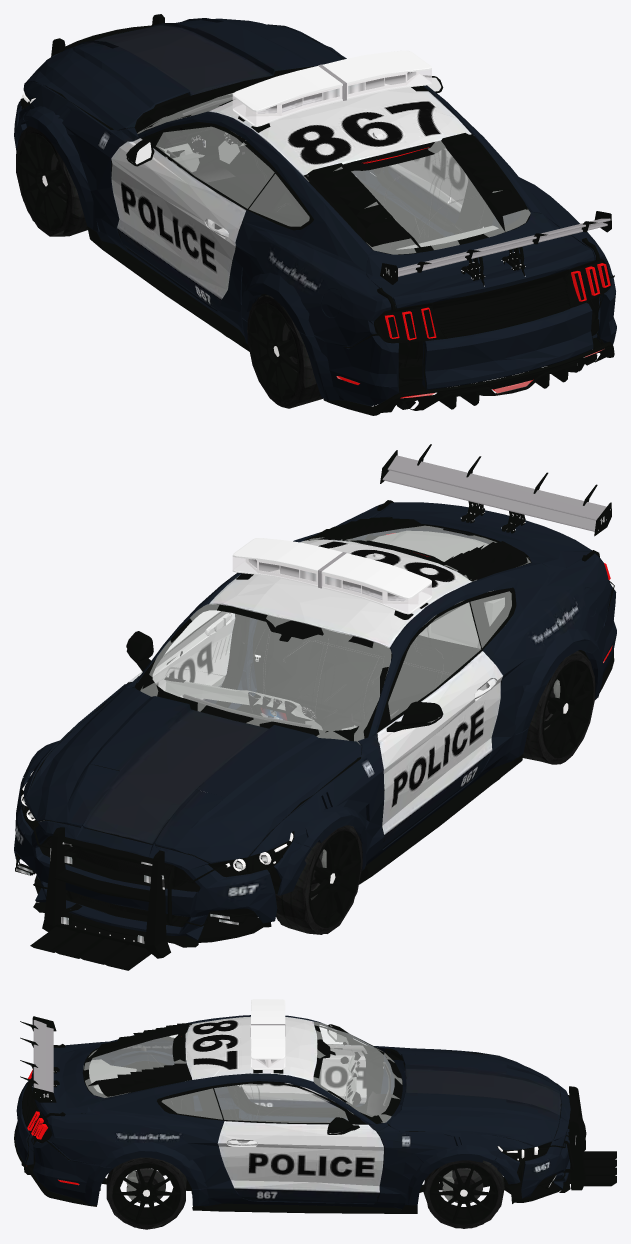
The model's file is mustang.glb.
3 views of the same model, one above another, from view 1: azimuth 30°, elevation 25°; view 2: azimuth 150°, elevation 25°; view 3: azimuth 270°, elevation 25° (orthographic). The views are drawn at different scales.
Visible parts, largest first — view 1: Object_41, Object_13, Object_6, Object_3, Object_17, Object_62, Object_63, Object_33, Object_11, Object_10, Object_32; view 2: Object_41, Object_13, Object_6, Object_3, Object_17, Object_32, Object_63, Object_62, Object_10, Object_9, Object_33, Object_21; view 3: Object_41, Object_13, Object_6, Object_17, Object_62, Object_3, Object_32, Object_63, Object_53, Object_33, Object_11.
Boxes of the visible parts, <box> form: Object_41: <box>14,18,616,406</box>; Object_13: <box>17,14,614,415</box>; Object_6: <box>137,69,601,397</box>; Object_3: <box>111,86,601,409</box>; Object_17: <box>135,50,610,286</box>; Object_62: <box>16,126,303,406</box>; Object_63: <box>16,126,323,408</box>; Object_33: <box>164,97,244,182</box>; Object_11: <box>362,147,610,340</box>; Object_10: <box>257,71,416,113</box>; Object_32: <box>159,140,498,249</box>; Object_41: <box>14,502,616,940</box>; Object_13: <box>15,444,614,970</box>; Object_6: <box>23,526,604,869</box>; Object_3: <box>16,534,612,942</box>; Object_17: <box>232,455,610,867</box>; Object_32: <box>160,530,504,730</box>; Object_63: <box>33,651,595,934</box>; Object_62: <box>276,654,594,933</box>; Object_10: <box>16,559,405,943</box>; Object_9: <box>46,837,196,920</box>; Object_33: <box>164,641,398,727</box>; Object_21: <box>167,604,485,718</box>; Object_41: <box>15,1015,570,1211</box>; Object_13: <box>14,1016,616,1224</box>; Object_6: <box>84,1022,401,1133</box>; Object_17: <box>32,999,454,1200</box>; Object_62: <box>107,1159,502,1229</box>; Object_3: <box>33,1061,561,1208</box>; Object_32: <box>89,1055,358,1124</box>; Object_63: <box>106,1157,504,1229</box>; Object_53: <box>127,1168,483,1204</box>; Object_33: <box>140,1046,392,1122</box>; Object_11: <box>27,1069,47,1139</box>.
Bounding box in the file's own units: 2.36 × 1.68 × 5.82.
16 materials, 16 textured.
